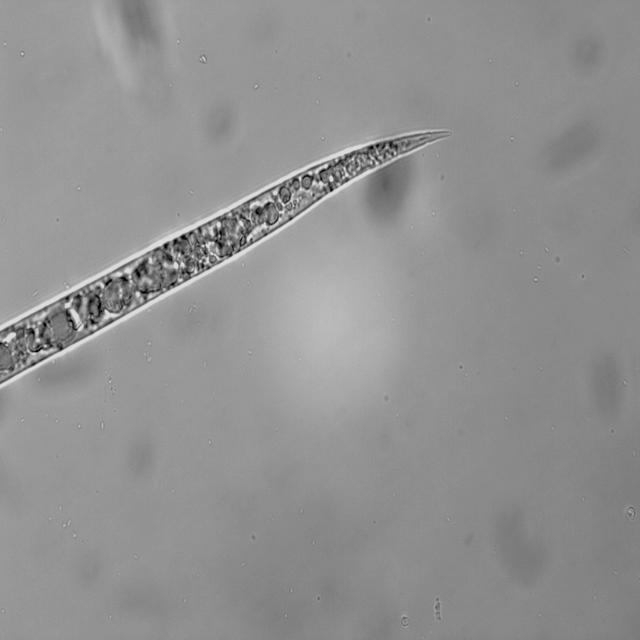Meloidogyne: (1, 116, 455, 390)
